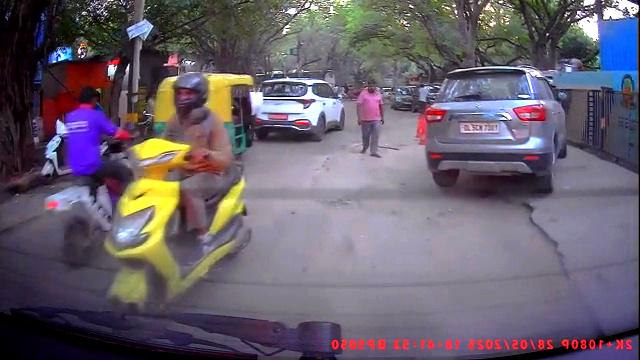motorcycle_with_helmet: (101, 72, 256, 313)
motorcycle_without_helmet: (42, 85, 134, 269)
